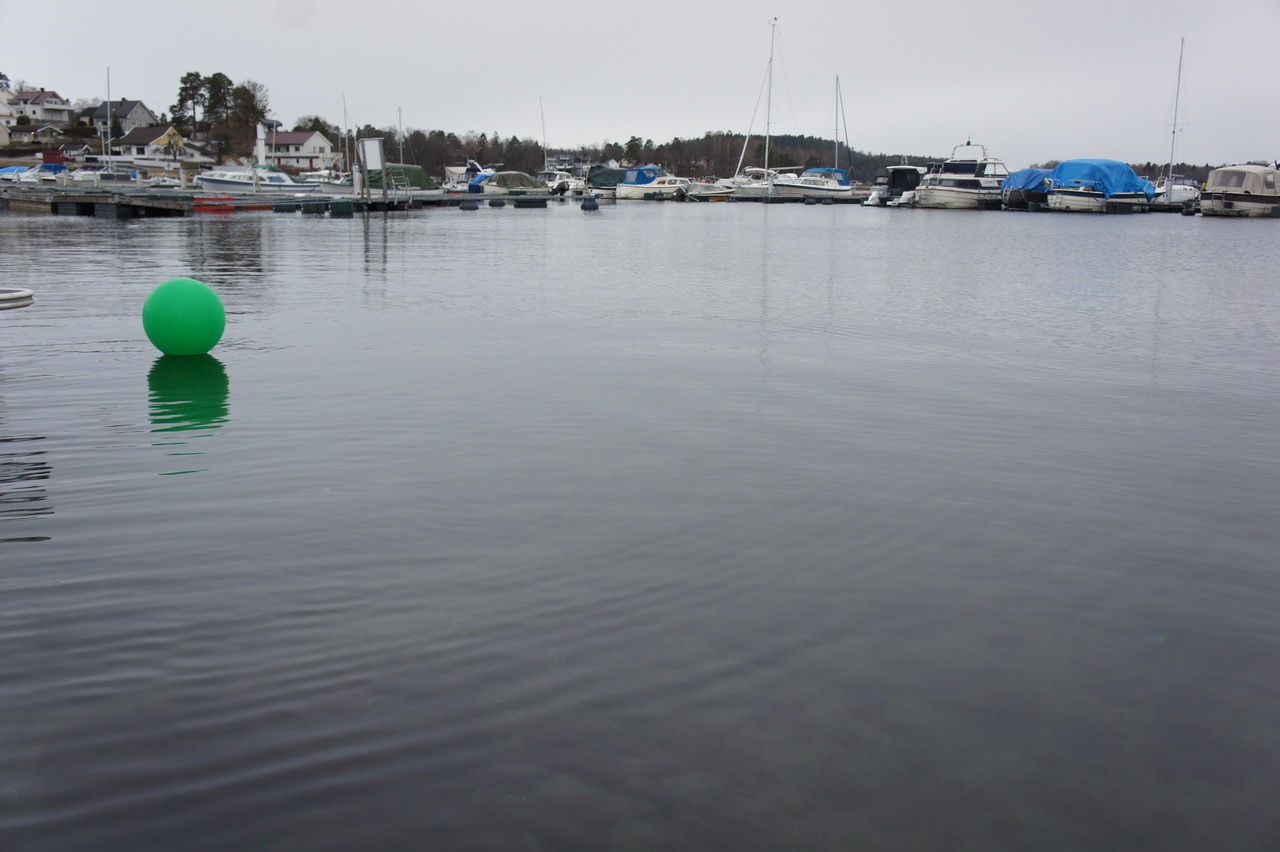green: (142, 278, 227, 356)
